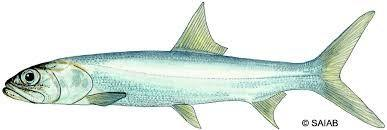Tenpounder: (3, 0, 387, 130)
